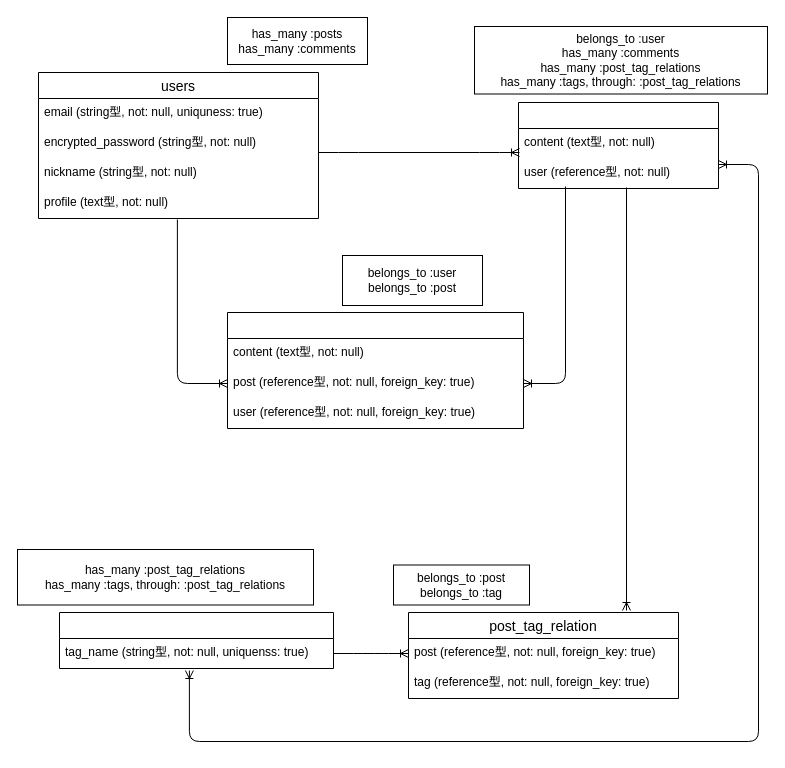
The diagram is 785 pixels wide and 768 high, and some of its shapes have lost their labels. The box of each missing label's shape, as (x1, y1, x2, y2) in pixels:
comments: (226, 312, 524, 428)
posts: (518, 102, 718, 188)
tags: (58, 612, 334, 668)
